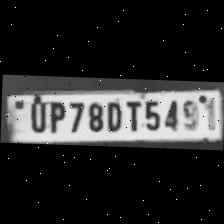1: (198, 94, 216, 131)
3: (180, 95, 198, 130)
4: (160, 96, 180, 130)
5: (140, 95, 160, 130)
7: (63, 98, 83, 134)
8: (84, 98, 104, 133)
D: (102, 96, 122, 132)
P: (45, 97, 65, 133)
T: (123, 96, 141, 131)
U: (23, 96, 47, 132)
